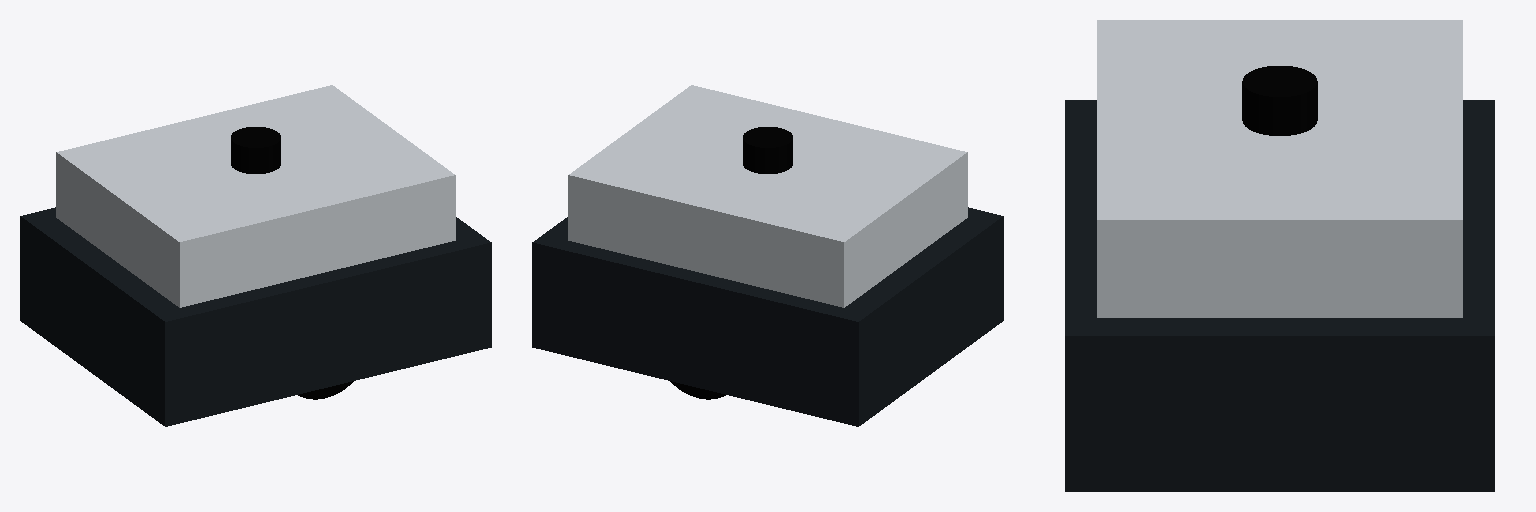
The robot description file, URDF, robot "serving_robot":
<robot name="serving_robot"><material name="body_dark"><color rgba="0.12 0.14 0.16 1.0" /></material><material name="body_white"><color rgba="0.82 0.84 0.86 1.0" /></material><material name="wheel_black"><color rgba="0.03 0.03 0.03 1.0" /></material><material name="caster_dark"><color rgba="0.10 0.10 0.10 1.0" /></material><link name="base_footprint" /><link name="base_link"><visual name="lower_shell_visual"><origin rpy="0 0 0" xyz="0 0 -0.02" /><geometry><box size="0.52                   0.4                   0.16" /></geometry><material name="body_dark" /></visual><visual name="upper_shell_visual"><origin rpy="0 0 0" xyz="0 0 0.11" /><geometry><box size="0.44                   0.34                   0.1" /></geometry><material name="body_white" /></visual><collision name="central_chassis_collision"><origin rpy="0 0 0" xyz="0 0 0.03" /><geometry><box size="0.40 0.30 0.18" /></geometry></collision><collision name="front_bumper_collision"><origin rpy="0 0 0" xyz="0.22 0 -0.02" /><geometry><box size="0.08 0.38 0.10" /></geometry></collision><collision name="rear_bumper_collision"><origin rpy="0 0 0" xyz="-0.22 0 -0.02" /><geometry><box size="0.08 0.38 0.10" /></geometry></collision><inertial><origin rpy="0 0 0" xyz="0 0 0" /><mass value="18.0" /><inertia ixx="0.3414" ixy="0.0" ixz="0.0" iyy="0.507" iyz="0.0" izz="0.6456000000000001" /></inertial></link><joint name="base_footprint_joint" type="fixed"><parent link="base_footprint" /><child link="base_link" /><origin rpy="0 0 0" xyz="0 0 0.12" /></joint><link name="left_wheel_link"><visual><origin rpy="1.57079632679 0 0" xyz="0 0 0" /><geometry><cylinder length="0.035" radius="0.075" /></geometry><material name="wheel_black" /></visual><collision><origin rpy="1.57079632679 0 0" xyz="0 0 0" /><geometry><cylinder length="0.035" radius="0.075" /></geometry></collision><inertial><origin rpy="0 0 0" xyz="0 0 0" /><mass value="0.7" /><inertia ixx="0.001055833333333333" ixy="0.0" ixz="0.0" iyy="0.00196875" iyz="0.0" izz="0.001055833333333333" /></inertial></link><joint name="left_wheel_joint" type="continuous"><parent link="base_link" /><child link="left_wheel_link" /><origin rpy="0 0 0" xyz="0 0.175 -0.045" /><axis xyz="0 1 0" /></joint><link name="right_wheel_link"><visual><origin rpy="1.57079632679 0 0" xyz="0 0 0" /><geometry><cylinder length="0.035" radius="0.075" /></geometry><material name="wheel_black" /></visual><collision><origin rpy="1.57079632679 0 0" xyz="0 0 0" /><geometry><cylinder length="0.035" radius="0.075" /></geometry></collision><inertial><origin rpy="0 0 0" xyz="0 0 0" /><mass value="0.7" /><inertia ixx="0.001055833333333333" ixy="0.0" ixz="0.0" iyy="0.00196875" iyz="0.0" izz="0.001055833333333333" /></inertial></link><joint name="right_wheel_joint" type="continuous"><parent link="base_link" /><child link="right_wheel_link" /><origin rpy="0 0 0" xyz="0 -0.175 -0.045" /><axis xyz="0 1 0" /></joint><link name="front_caster_link"><visual><geometry><sphere radius="0.025" /></geometry><material name="caster_dark" /></visual><collision><geometry><sphere radius="0.025" /></geometry></collision><inertial><origin rpy="0 0 0" xyz="0 0 0" /><mass value="0.2" /><inertia ixx="5.0000000000000016e-05" ixy="0.0" ixz="0.0" iyy="5.0000000000000016e-05" iyz="0.0" izz="5.0000000000000016e-05" /></inertial></link><joint name="front_caster_joint" type="fixed"><parent link="base_link" /><child link="front_caster_link" /><origin rpy="0 0 0" xyz="0.19 0 -0.095" /></joint><link name="rear_caster_link"><visual><geometry><sphere radius="0.025" /></geometry><material name="caster_dark" /></visual><collision><geometry><sphere radius="0.025" /></geometry></collision><inertial><origin rpy="0 0 0" xyz="0 0 0" /><mass value="0.2" /><inertia ixx="5.0000000000000016e-05" ixy="0.0" ixz="0.0" iyy="5.0000000000000016e-05" iyz="0.0" izz="5.0000000000000016e-05" /></inertial></link><joint name="rear_caster_joint" type="fixed"><parent link="base_link" /><child link="rear_caster_link" /><origin rpy="0 0 0" xyz="-0.19 0 -0.095" /></joint><gazebo reference="left_wheel_link"><mu1>1.0</mu1><mu2>1.0</mu2></gazebo><gazebo reference="right_wheel_link"><mu1>1.0</mu1><mu2>1.0</mu2></gazebo><gazebo reference="front_caster_link"><mu1>0.001</mu1><mu2>0.001</mu2></gazebo><gazebo reference="rear_caster_link"><mu1>0.001</mu1><mu2>0.001</mu2></gazebo><gazebo><plugin filename="gz-sim-diff-drive-system" name="gz::sim::systems::DiffDrive"><left_joint>left_wheel_joint</left_joint><right_joint>right_wheel_joint</right_joint><wheel_separation>0.317</wheel_separation><wheel_radius>0.075</wheel_radius><odom_publish_frequency>50</odom_publish_frequency><frame_id>robot_01/odom</frame_id><child_frame_id>robot_01/base_footprint</child_frame_id><topic>/model/robot_01/cmd_vel</topic><odom_topic>/model/robot_01/odometry</odom_topic><tf_topic>/model/robot_01/tf</tf_topic></plugin><plugin filename="gz-sim-joint-state-publisher-system" name="gz::sim::systems::JointStatePublisher"><joint_name>left_wheel_joint</joint_name><joint_name>right_wheel_joint</joint_name></plugin></gazebo><link name="laser_link"><visual><origin rpy="0 0 0" xyz="0 0 0" /><geometry><cylinder length="0.04" radius="0.035" /></geometry><material name="lidar_black"><color rgba="0.03 0.03 0.03 1.0" /></material></visual><collision><origin rpy="0 0 0" xyz="0 0 0" /><geometry><cylinder length="0.04" radius="0.035" /></geometry></collision><inertial><origin rpy="0 0 0" xyz="0 0 0" /><mass value="0.15" /><inertia ixx="0.000066" ixy="0.0" ixz="0.0" iyy="0.000066" iyz="0.0" izz="0.000092" /></inertial></link><joint name="laser_joint" type="fixed"><parent link="base_link" /><child link="laser_link" /><origin rpy="0 0 0" xyz="0 0 0.18" /></joint><gazebo reference="laser_link"><sensor name="gpu_lidar" type="gpu_lidar"><always_on>true</always_on><visualize>true</visualize><update_rate>10</update_rate><topic>/model/robot_01/scan</topic><gz_frame_id>robot_01/laser_link</gz_frame_id><lidar><scan><horizontal><samples>720</samples><resolution>1</resolution><min_angle>-3.14159265359</min_angle><max_angle>3.14159265359</max_angle></horizontal></scan><range><min>0.10</min><max>12.0</max><resolution>0.01</resolution></range></lidar></sensor></gazebo><link name="front_camera_link" /><joint name="front_camera_joint" type="fixed"><parent link="base_link" /><child link="front_camera_link" /><origin xyz="0 0 0.9" rpy="0 0 0.0" /></joint><gazebo reference="front_camera_link"><sensor name="front_rgbd" type="rgbd_camera"><always_on>true</always_on><update_rate>10.0</update_rate><topic>/model/robot_01/camera/front</topic><gz_frame_id>robot_01/front_camera_link</gz_frame_id><camera><horizontal_fov>2.0943951023931953</horizontal_fov><image><width>320</width><height>240</height><format>R8G8B8</format></image><clip><near>0.1</near><far>8.0</far></clip></camera></sensor></gazebo><link name="rear_left_camera_link" /><joint name="rear_left_camera_joint" type="fixed"><parent link="base_link" /><child link="rear_left_camera_link" /><origin xyz="0 0 0.9" rpy="0 0 2.09439510239" /></joint><gazebo reference="rear_left_camera_link"><sensor name="rear_left_rgbd" type="rgbd_camera"><always_on>true</always_on><update_rate>5.0</update_rate><topic>/model/robot_01/camera/rear_left</topic><gz_frame_id>robot_01/rear_left_camera_link</gz_frame_id><camera><horizontal_fov>2.0943951023931953</horizontal_fov><image><width>320</width><height>240</height><format>R8G8B8</format></image><clip><near>0.1</near><far>8.0</far></clip></camera></sensor></gazebo><link name="rear_right_camera_link" /><joint name="rear_right_camera_joint" type="fixed"><parent link="base_link" /><child link="rear_right_camera_link" /><origin xyz="0 0 0.9" rpy="0 0 -2.09439510239" /></joint><gazebo reference="rear_right_camera_link"><sensor name="rear_right_rgbd" type="rgbd_camera"><always_on>true</always_on><update_rate>5.0</update_rate><topic>/model/robot_01/camera/rear_right</topic><gz_frame_id>robot_01/rear_right_camera_link</gz_frame_id><camera><horizontal_fov>2.0943951023931953</horizontal_fov><image><width>320</width><height>240</height><format>R8G8B8</format></image><clip><near>0.1</near><far>8.0</far></clip></camera></sensor></gazebo></robot>

--- What the picture shows (computed from the rendered views, not written in the file) ---
3 views of the same robot in one strip: view 1: azimuth 30°, elevation 25°; view 2: azimuth 150°, elevation 25°; view 3: azimuth 270°, elevation 25° (orthographic).
Model serving_robot with 10 links and 9 joints (2 continuous, 7 fixed), rooted at base_footprint, posed every joint at zero.
Links seen in each view (by area): view 1: base_link, laser_link; view 2: base_link, laser_link; view 3: base_link, laser_link.
Boxes of the visible links, x1,y1,x2,y2 form: base_link: (20,85,491,426); laser_link: (231,127,280,173); base_link: (532,85,1003,426); laser_link: (743,127,792,173); base_link: (1065,20,1494,491); laser_link: (1242,66,1317,135).
Size in the robot's own frame: 0.52 by 0.4 by 0.32 metres.
Geometry: primitives only (box / cylinder / sphere), no mesh files.
